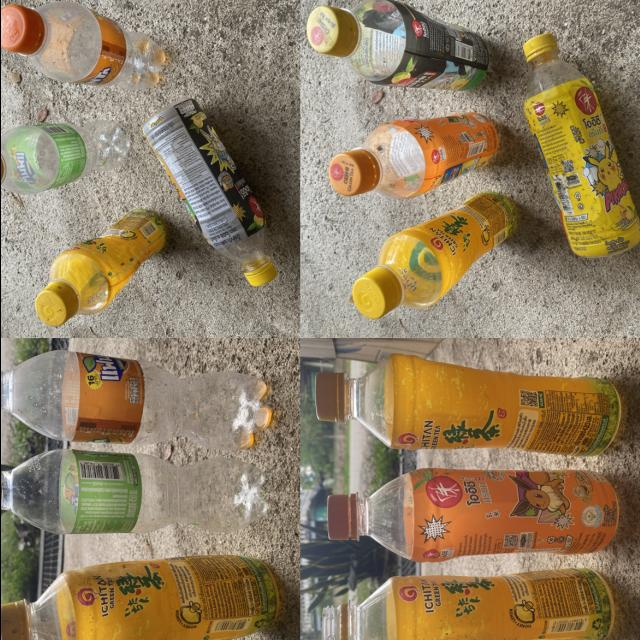plastik: (314, 354, 619, 457), (0, 350, 270, 451), (327, 468, 617, 562), (523, 34, 640, 257), (142, 99, 276, 286), (0, 555, 277, 640), (0, 450, 266, 535), (321, 567, 613, 640), (351, 192, 515, 319), (306, 0, 488, 91), (34, 210, 165, 327), (0, 1, 164, 90), (328, 113, 497, 199), (0, 121, 129, 195)
